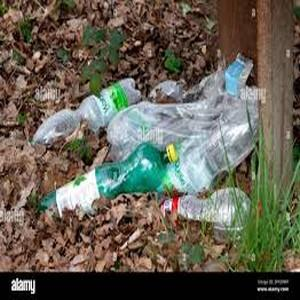Plastic: (52, 141, 176, 216), (167, 187, 249, 230), (79, 75, 141, 126)
